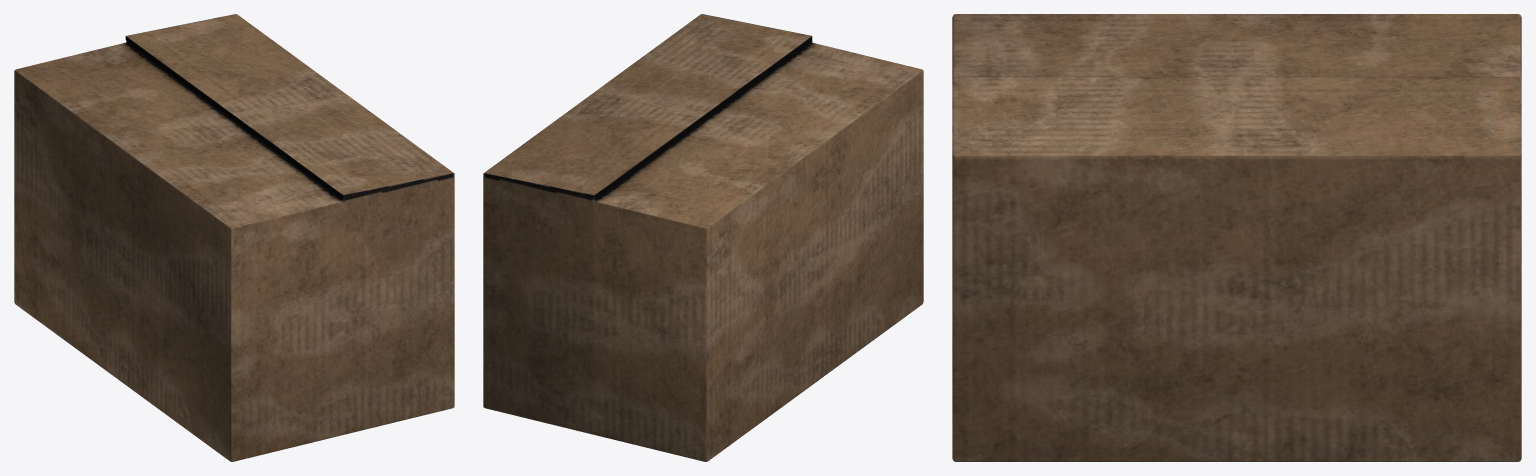
The model's file is SM_CarboardBox.fbx.
3 views of the same model, side by side, from view 1: azimuth 30°, elevation 25°; view 2: azimuth 150°, elevation 25°; view 3: azimuth 270°, elevation 25° (orthographic). The views are drawn at different scales.
Visible parts, largest first — view 1: CarboardBox; view 2: CarboardBox; view 3: CarboardBox.
Part boxes in pixels (x1,y1,x2,y2): CarboardBox: (14, 14, 454, 461); CarboardBox: (483, 14, 923, 461); CarboardBox: (952, 14, 1521, 461).
Bounding box in the file's own units: 64.68 × 66.23 × 109.
